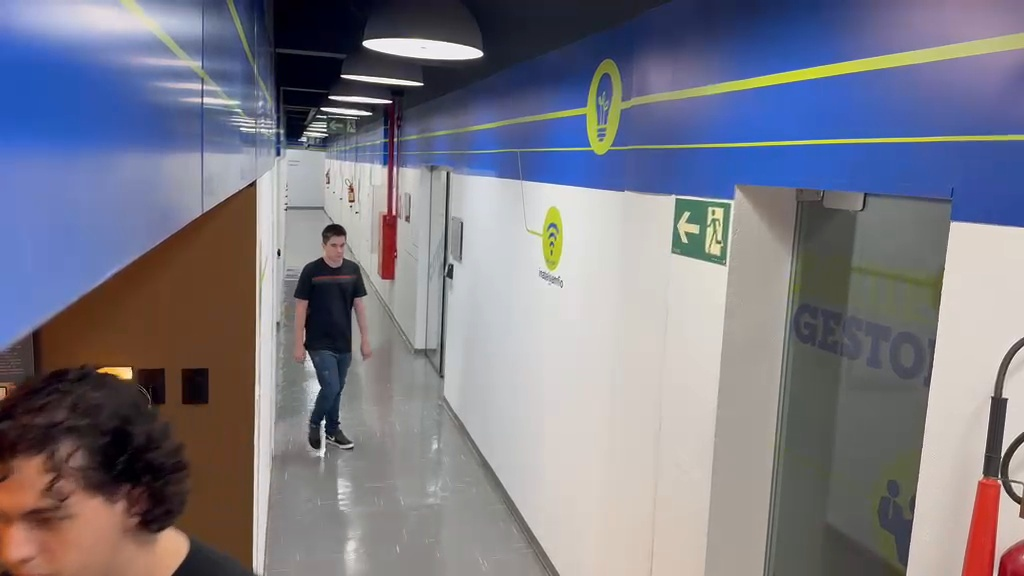person: (0, 366, 251, 571), (291, 224, 371, 453)
